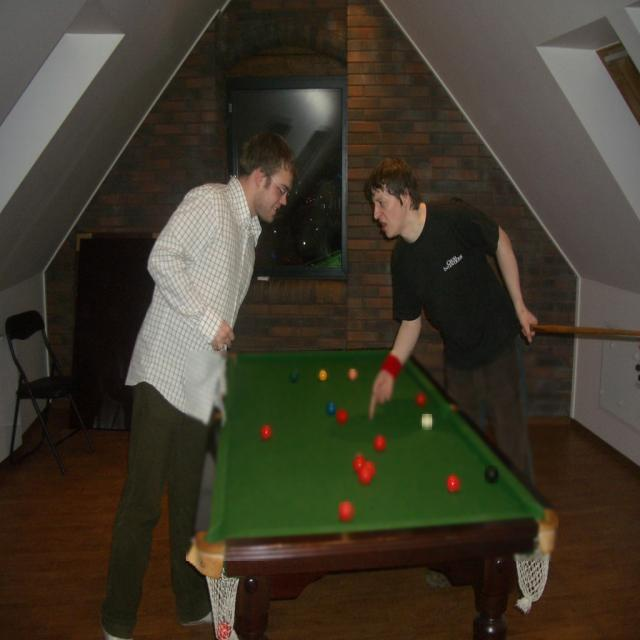Ball: (340, 502, 356, 522), (448, 474, 460, 494), (258, 425, 272, 441), (485, 466, 498, 483), (358, 468, 370, 486), (286, 369, 300, 383), (374, 435, 386, 451), (363, 462, 375, 478), (422, 414, 432, 430), (354, 457, 364, 473), (416, 394, 428, 407), (326, 399, 335, 415), (347, 369, 358, 381), (336, 410, 346, 423), (318, 370, 328, 382)
Billiard table: (186, 351, 558, 561)
